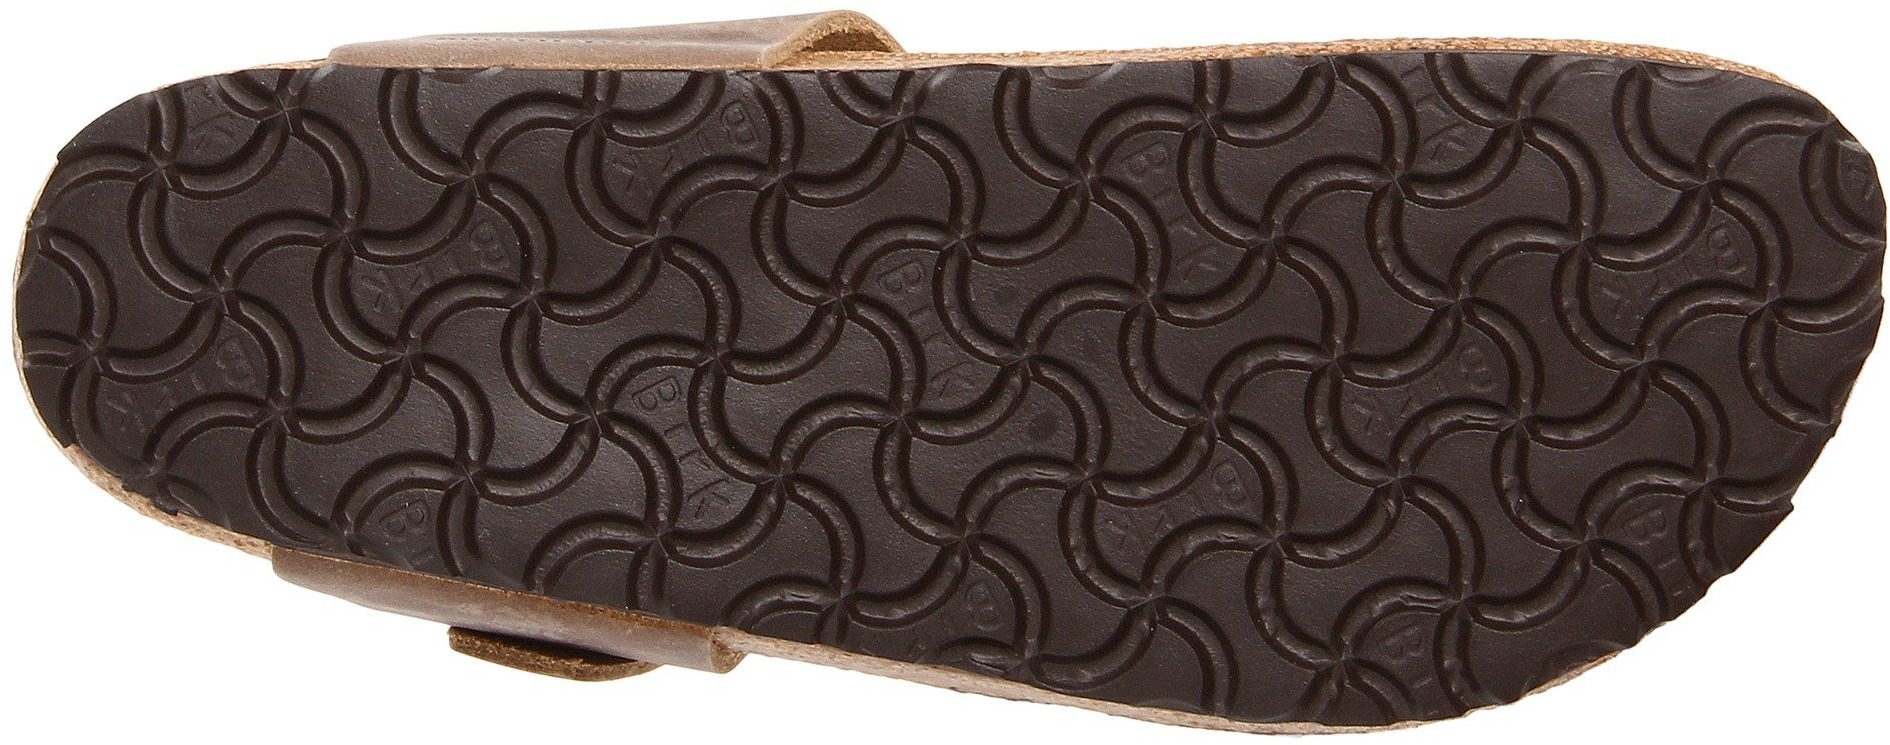bowtie: (548, 80, 1021, 589), (1035, 84, 1484, 483), (143, 102, 529, 494), (1487, 80, 1836, 447), (1075, 487, 1467, 738), (1064, 354, 1377, 657), (331, 89, 662, 341), (938, 74, 1229, 338), (796, 347, 1056, 628), (1503, 81, 1763, 347), (673, 78, 933, 341), (1392, 379, 1665, 624), (1246, 69, 1489, 340), (78, 151, 316, 393), (548, 354, 787, 589), (330, 347, 540, 540)
star: (149, 242, 290, 370), (405, 119, 542, 230), (1146, 375, 1286, 474), (1015, 134, 1134, 246), (405, 438, 533, 541), (898, 493, 1035, 586), (724, 143, 830, 231), (1487, 394, 1569, 481)
text: (548, 80, 1021, 589), (1035, 84, 1484, 483), (143, 102, 529, 494), (1487, 80, 1836, 447), (1075, 487, 1467, 738), (851, 240, 991, 405), (616, 365, 747, 540), (1105, 137, 1245, 301), (580, 111, 788, 203), (1577, 251, 1757, 334), (351, 239, 522, 322), (1088, 480, 1258, 555), (1385, 77, 1492, 162)
